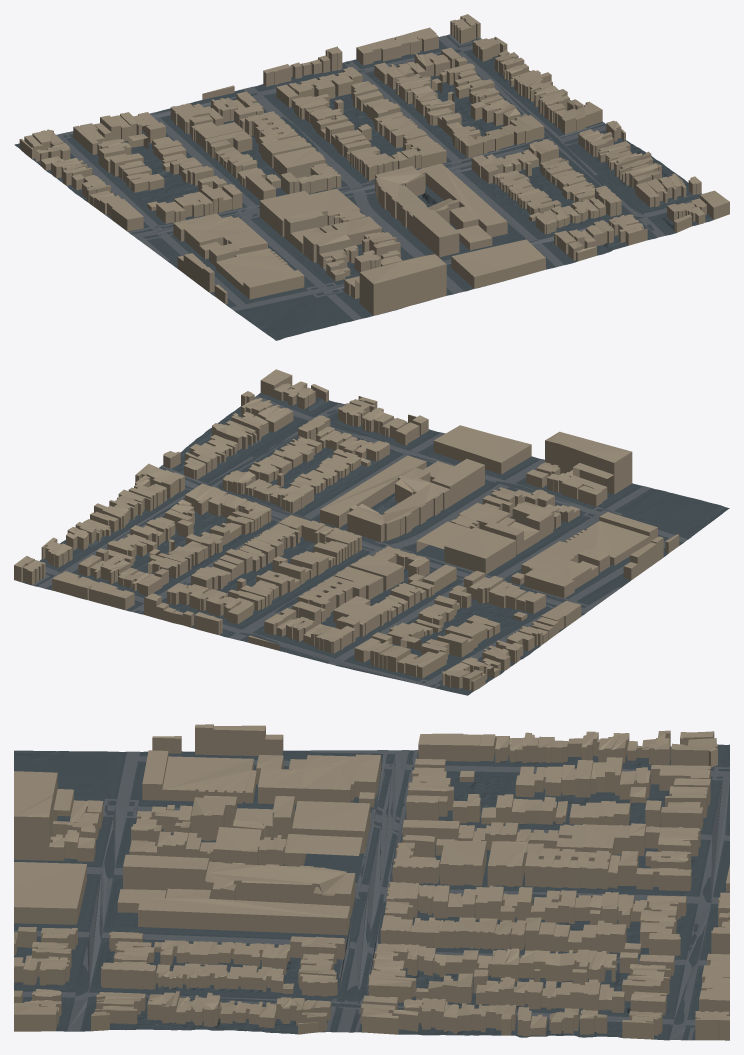
Rendered from epsg26910-1437-10883.lod0.glb.
3 views of the same model, one above another, from view 1: azimuth 30°, elevation 25°; view 2: azimuth 150°, elevation 25°; view 3: azimuth 270°, elevation 25° (orthographic). The views are drawn at different scales.
Parts seen in each view (by area): view 1: epsg26910-1437-10883-lod0; view 2: epsg26910-1437-10883-lod0; view 3: epsg26910-1437-10883-lod0.
Part boxes in pixels (bbox=[...]): epsg26910-1437-10883-lod0: bbox=[14, 14, 729, 340]; epsg26910-1437-10883-lod0: bbox=[14, 369, 729, 695]; epsg26910-1437-10883-lod0: bbox=[14, 724, 729, 1040].
Bounding box in the file's own units: 384 × 29.72 × 384.
